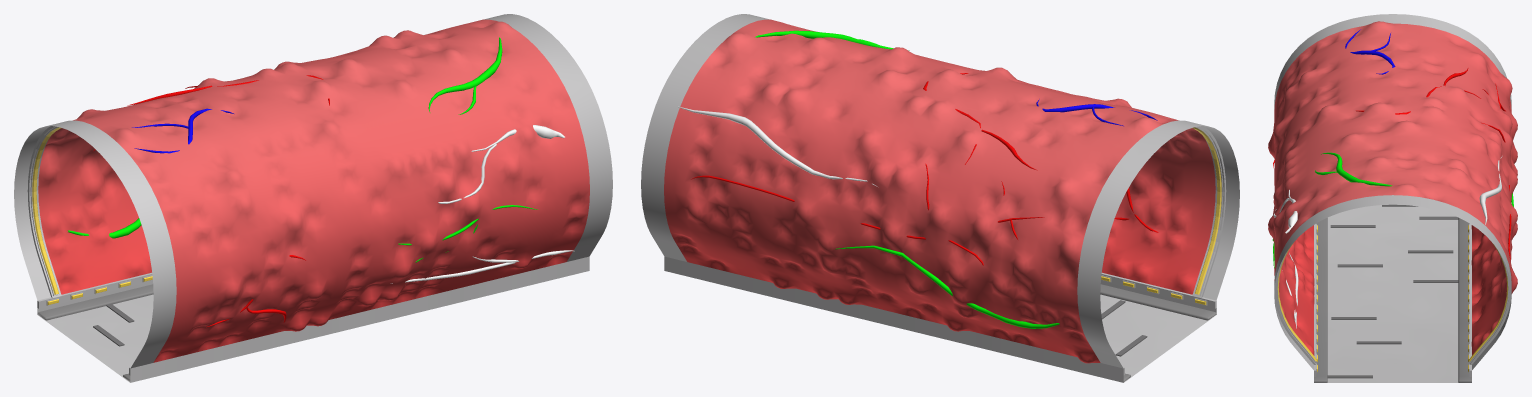
The model's file is Terowongan_2_Lurus.fbx.
3 views of the same model, side by side, from view 1: azimuth 30°, elevation 25°; view 2: azimuth 150°, elevation 25°; view 3: azimuth 270°, elevation 25° (orthographic). The views are drawn at different scales.
Visible parts, largest first — view 1: Terowongan 2_Lurus; view 2: Terowongan 2_Lurus; view 3: Terowongan 2_Lurus.
Boxes of the visible parts, <box> form: Terowongan 2_Lurus: <box>14,14,612,382</box>; Terowongan 2_Lurus: <box>641,14,1239,382</box>; Terowongan 2_Lurus: <box>1268,14,1517,382</box>.
Bounding box in the file's own units: 1000 × 450 × 554.
Materials: 4 (4 with a texture image).
